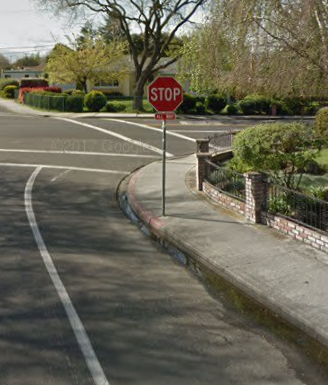stop_sign: (148, 77, 183, 112)
